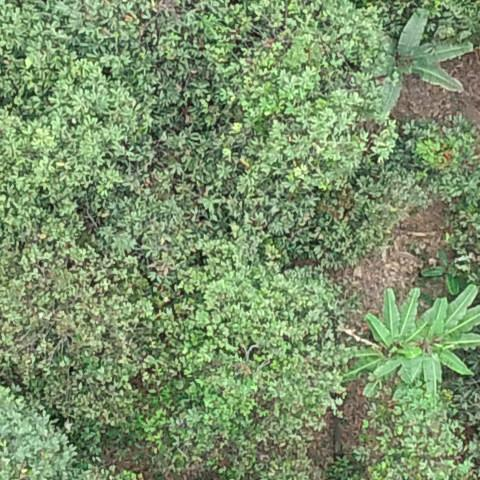Banana-plant: (366, 6, 476, 121), (339, 279, 428, 399), (401, 281, 480, 403)
